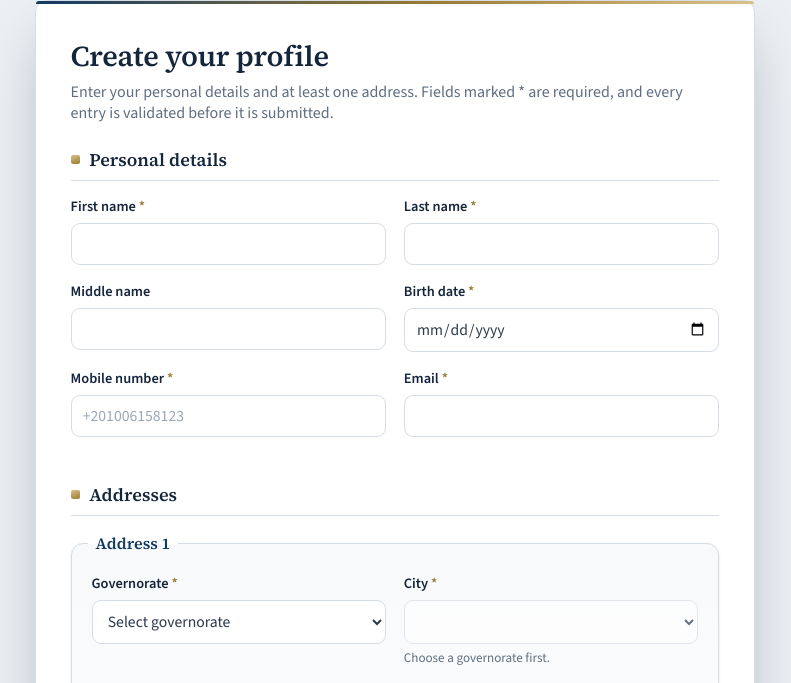
Scenario: RegistrationForm › loads cities only after a governorate is selected
Expected: the dropdown labelled "City *" is disabled, [404,600,698,644]
Select "Cairo" in the dropdown labelled "Governorate *" at (239, 622), box [92,600,386,644]
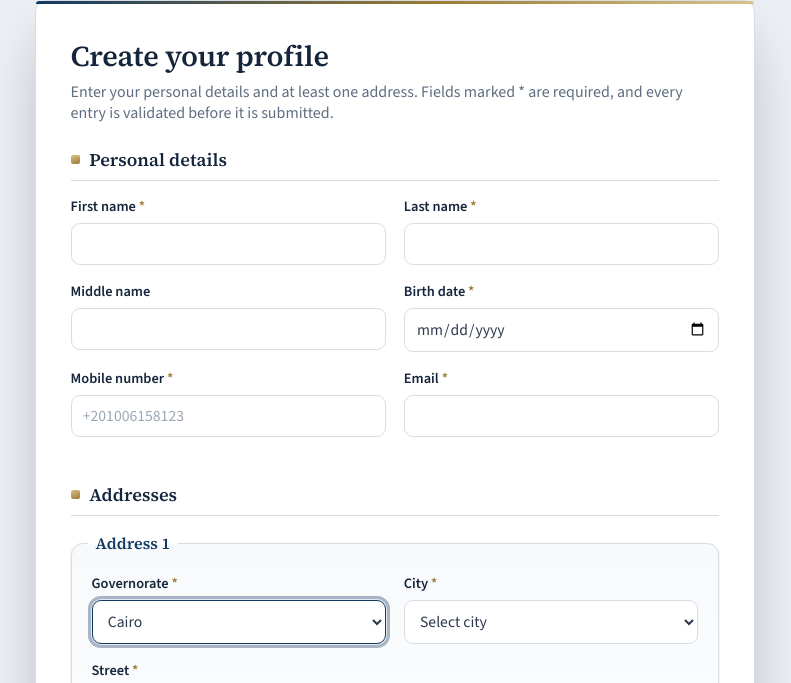
Now the dropdown labelled "City *" is enabled, box [404,600,698,644]
